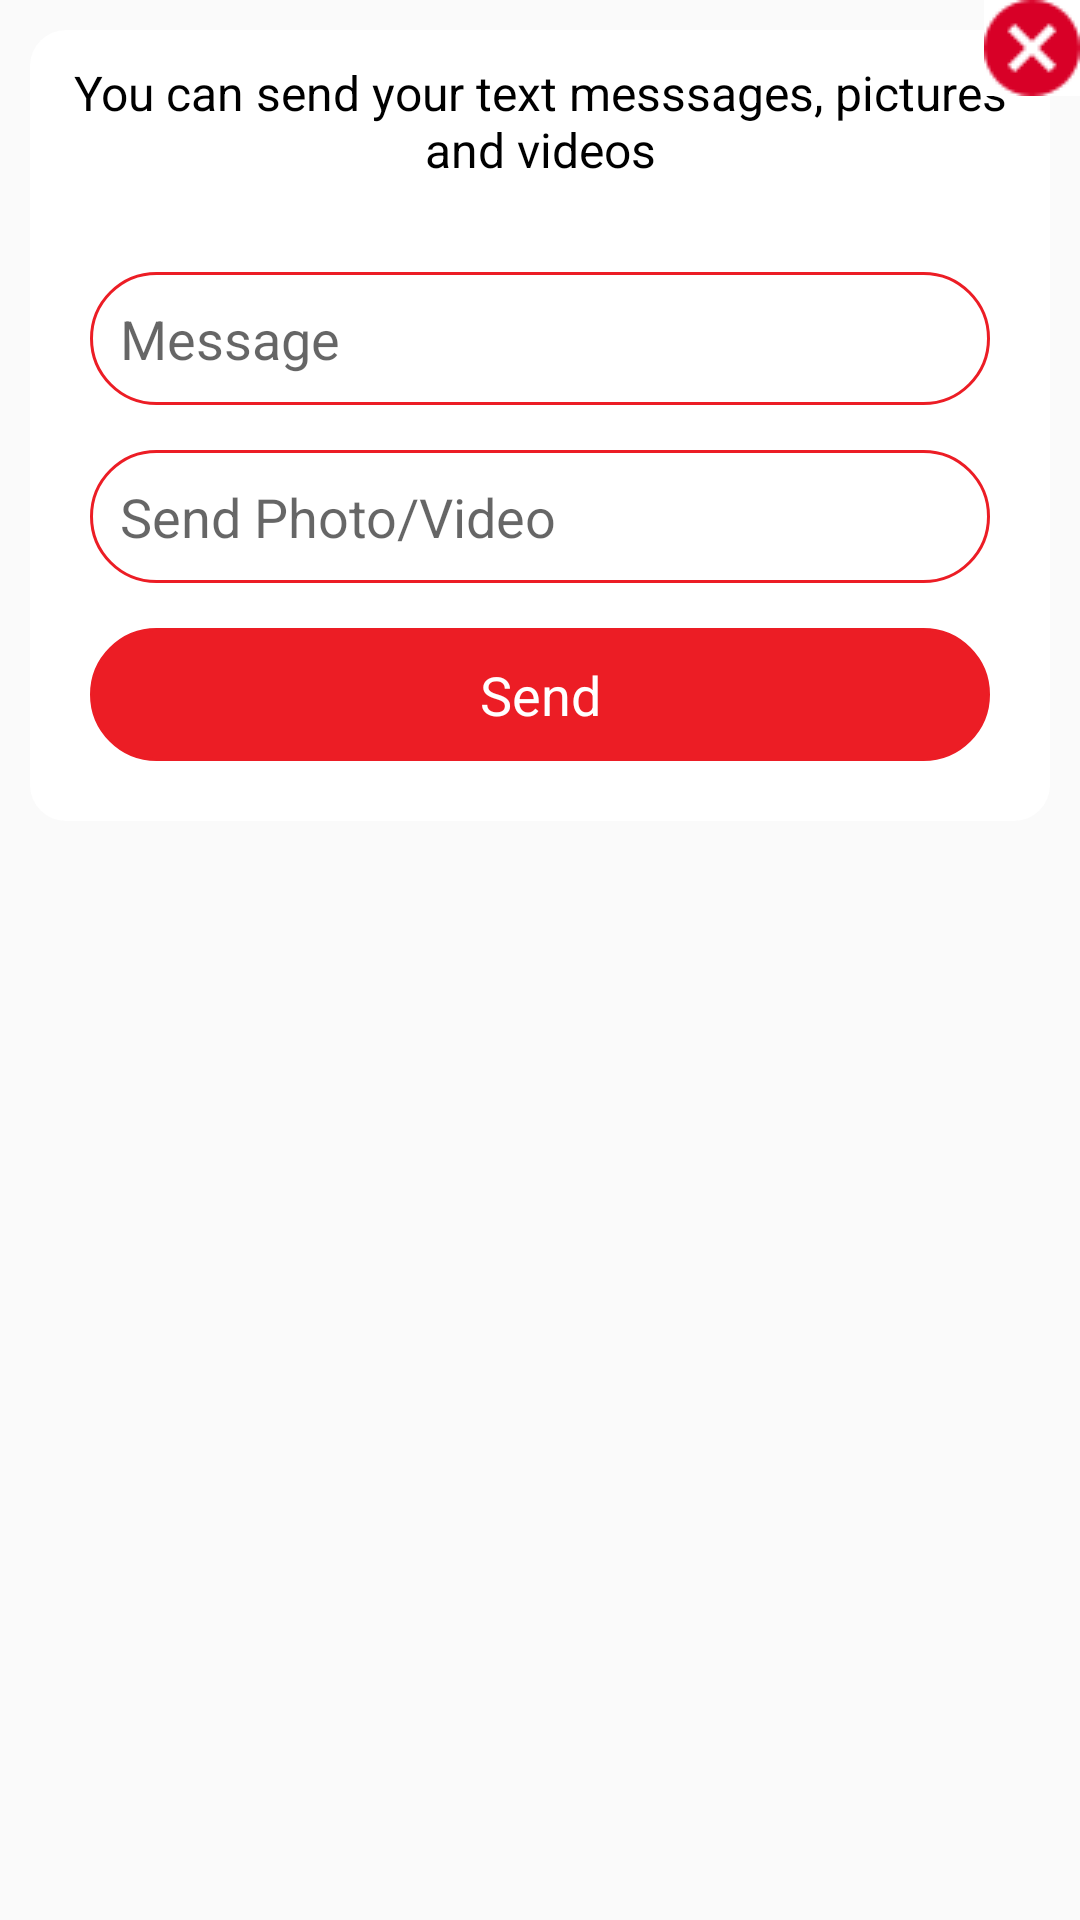

Point at icon controls on the screen. Image size 1080 × 1920, points as (x,y).
cancel: (1032,48)
